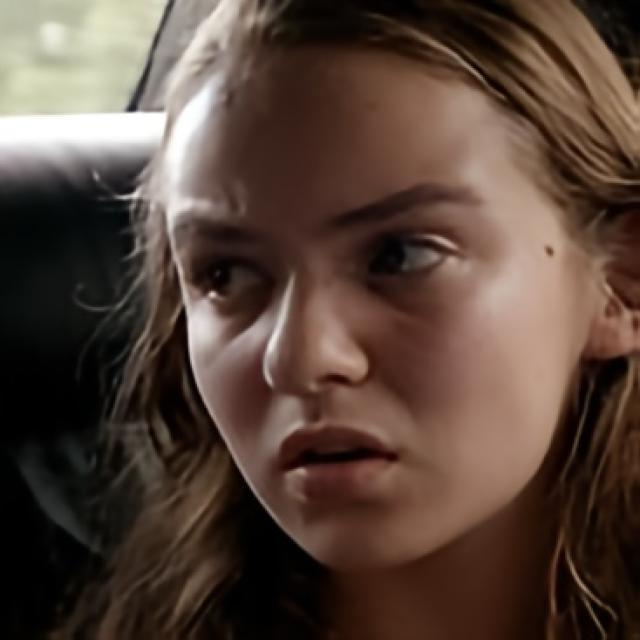disgust: (161, 24, 588, 572)
